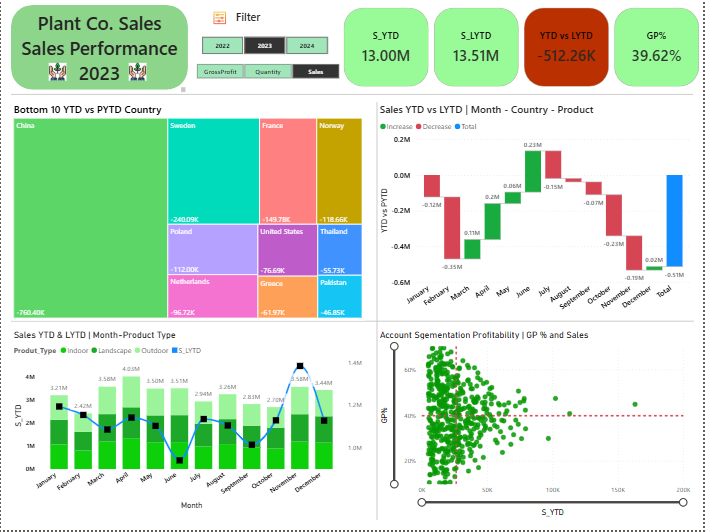

What the dashboard file says about the page in this screenshot:
{"tool":"powerbi","page":{"name":"Page 8","canvas":[1299,980],"ordinal":0},"visuals":[{"type":"slicer","fields":{"Values":["Date.Date.Variation.Date Hierarchy.Year"]},"box":[346.6,60.3,282.8,46.6],"z":0},{"type":"slicer","fields":{"Values":["Slicer-Value.Value"]},"box":[337.9,113.8,312.1,36.2],"z":1000},{"type":"cardVisual","fields":{"Data":["Key Measures.S_YTD","Key Measures.S_LYTD","Key Measures.YTD vs LYTD","Key Measures.GP%"]},"box":[629.3,8.6,669,156.9],"z":2000},{"type":"shape","box":[19,8.6,327.6,156.9],"z":3000},{"type":"textbox","box":[0,387,255.6,124.1],"z":4000},{"type":"treemap","title":"Bottom 10 YTD vs PYTD  Country","fields":{"Values":["Key Measures.YTD vs PYTD"],"Group":["Accounts.Country"]},"box":[19,189.7,655.2,405.2],"z":5000},{"type":"waterfallChart","fields":{"Y":["Key Measures.YTD vs PYTD"],"Category":["Date.Date.Variation.Date Hierarchy.Month","Accounts.Country","Plant_Hierarchy.Produt_Type","Plant_Hierarchy.Product_id"]},"box":[696.6,189.7,586.2,405.2],"z":6000},{"type":"lineStackedColumnComboChart","fields":{"Y":["Key Measures.S_YTD"],"Category":["Date.Date.Variation.Date Hierarchy.Month"],"Y2":["Key Measures.S_LYTD"],"Series":["Plant_Hierarchy.Produt_Type"]},"box":[19,610.3,655.2,339.7],"z":7000},{"type":"scatterChart","fields":{"Y":["Key Measures.GP%"],"X":["Key Measures.S_YTD"],"Category":["Accounts.Account"]},"box":[696.6,610.3,586.2,353.4],"z":8000},{"type":"textbox","title":"Filter","box":[429.3,17.2,131,32.8],"z":9000},{"type":"image","box":[379.3,17.2,50,32.8],"z":10000},{"type":"textbox","box":[19,17.2,327.6,156.9],"z":11000},{"type":"image","box":[84.5,106.9,43.1,50],"z":12000},{"type":"image","box":[232.8,106.9,43.1,50],"z":13000},{"type":"shape","box":[546.6,189.7,300,774.1],"z":14000},{"type":"shape","box":[19,144.8,1263.8,89.7],"z":14001},{"type":"shape","box":[19,550,1263.8,89.7],"z":14002}]}

Visuals, with their boxes in screenshot pixels (x1, y1, x2, y2), scaled from the page's 1299x980 canvas onto the 706x532 screenshot:
slicer - Date.Date.Variation.Date Hierarchy.Year: {"left": 188, "top": 33, "right": 342, "bottom": 58}
slicer - Slicer-Value.Value: {"left": 184, "top": 62, "right": 353, "bottom": 81}
cardVisual - Key Measures.S_YTD x Key Measures.S_LYTD: {"left": 342, "top": 5, "right": 705, "bottom": 90}
shape: {"left": 10, "top": 5, "right": 188, "bottom": 90}
textbox: {"left": 0, "top": 210, "right": 139, "bottom": 277}
"Bottom 10 YTD vs PYTD  Country" treemap: {"left": 10, "top": 103, "right": 366, "bottom": 323}
waterfallChart - Key Measures.YTD vs PYTD x Date.Date.Variation.Date Hierarchy.Month: {"left": 379, "top": 103, "right": 697, "bottom": 323}
lineStackedColumnComboChart - Key Measures.S_YTD x Date.Date.Variation.Date Hierarchy.Month: {"left": 10, "top": 331, "right": 366, "bottom": 516}
scatterChart - Key Measures.GP% x Key Measures.S_YTD: {"left": 379, "top": 331, "right": 697, "bottom": 523}
"Filter" textbox: {"left": 233, "top": 9, "right": 305, "bottom": 27}
image: {"left": 206, "top": 9, "right": 233, "bottom": 27}
textbox: {"left": 10, "top": 9, "right": 188, "bottom": 95}
image: {"left": 46, "top": 58, "right": 69, "bottom": 85}
image: {"left": 127, "top": 58, "right": 150, "bottom": 85}
shape: {"left": 297, "top": 103, "right": 460, "bottom": 523}
shape: {"left": 10, "top": 79, "right": 697, "bottom": 127}
shape: {"left": 10, "top": 299, "right": 697, "bottom": 347}
